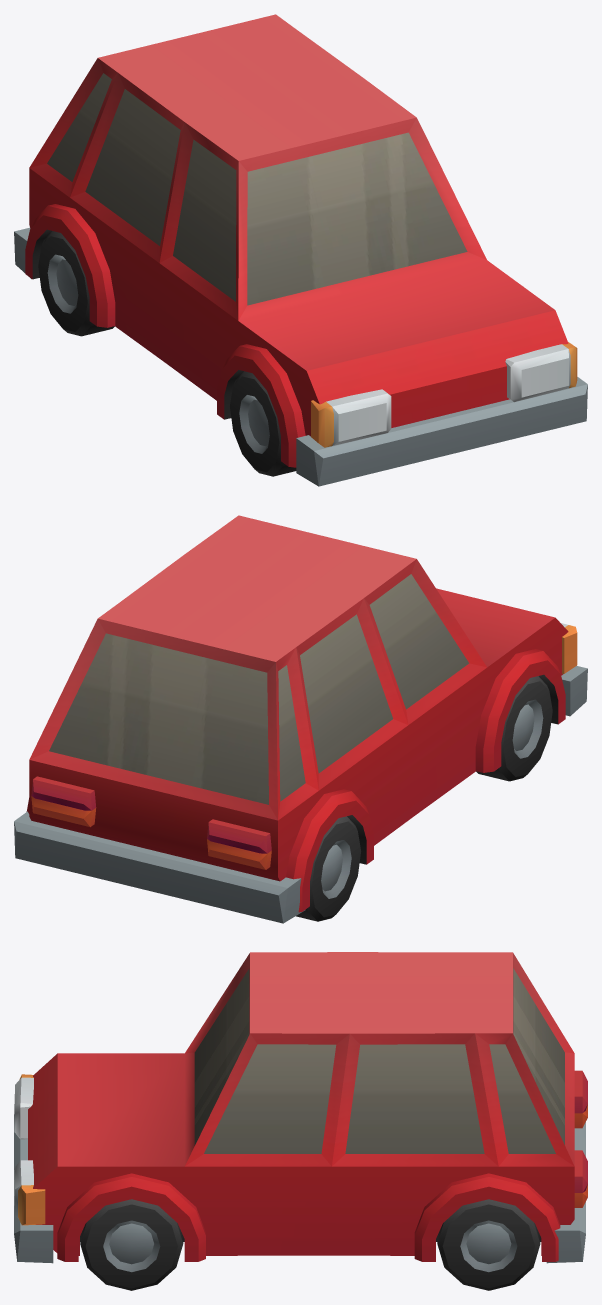
The model's file is kaykit-car-hatchback.glb.
The picture shows the model from 3 angles, top to bottom: view 1: azimuth 30°, elevation 25°; view 2: azimuth 150°, elevation 25°; view 3: azimuth 270°, elevation 25°; orthographic projection. The views are drawn at different scales.
Parts seen in each view (by area): view 1: car_hatchback; view 2: car_hatchback; view 3: car_hatchback.
Part boxes in pixels (<box>): car_hatchback: <box>14,14,587,486</box>; car_hatchback: <box>14,515,587,923</box>; car_hatchback: <box>14,952,587,1290</box>.
Size of the model in its own units: 0.4189 by 0.3687 by 0.8061.
1 material, 1 textured.
